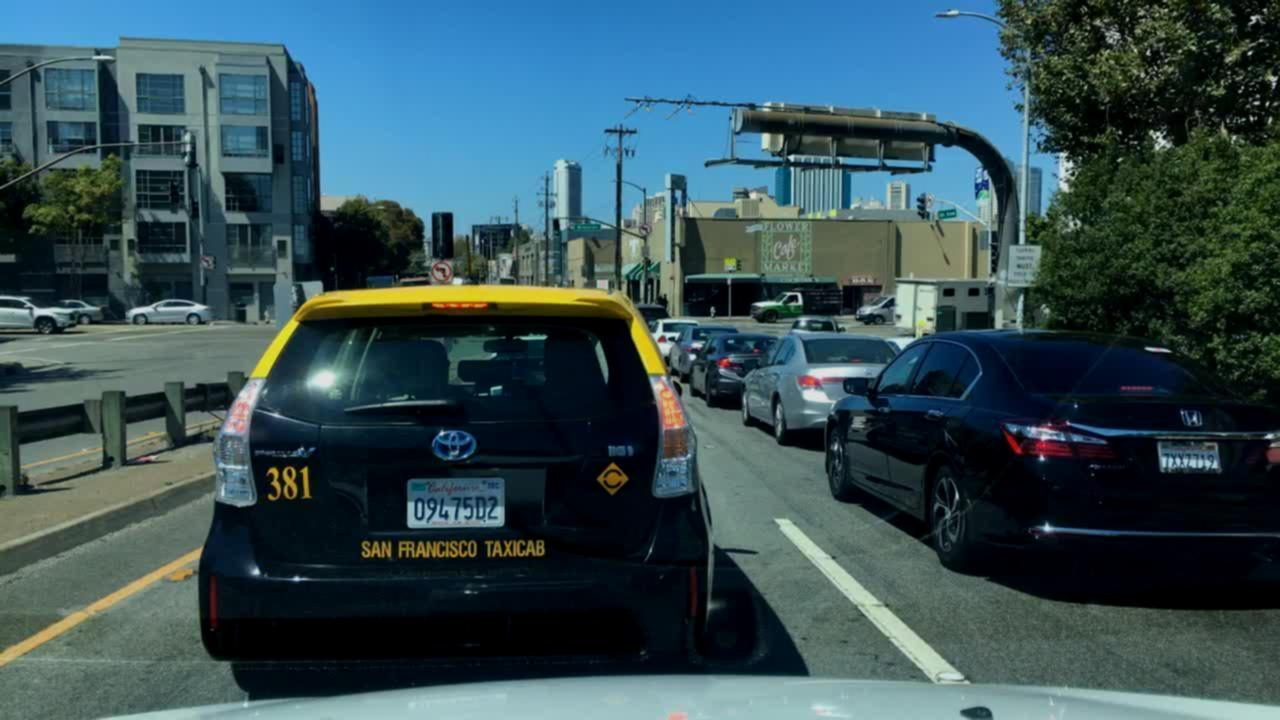Honda: (1169, 402, 1209, 436)
Toyota: (428, 422, 487, 471)
